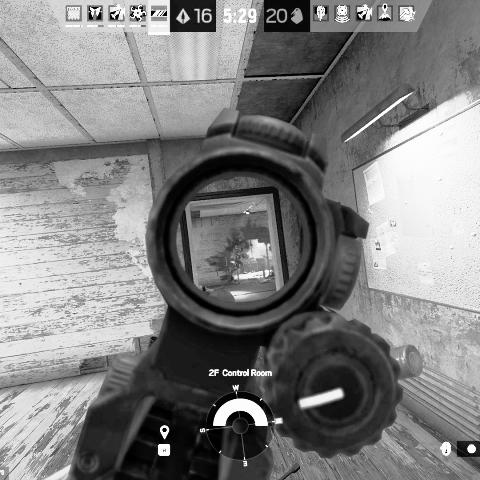Character: (232, 247, 248, 275)
Friend_label: (449, 206, 468, 223), (386, 219, 402, 235)
Head: (240, 247, 244, 252)
